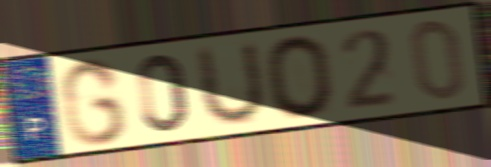0: (407, 17, 467, 104), (134, 52, 189, 136)
2: (338, 26, 398, 114)
G: (57, 54, 130, 148)
O: (262, 32, 338, 122)
U: (195, 38, 268, 131)
